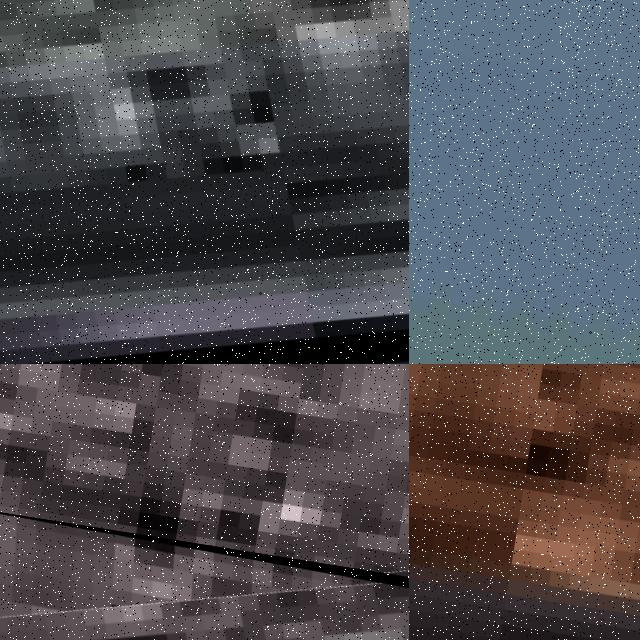drone: (0, 0, 409, 364), (0, 503, 409, 640)
